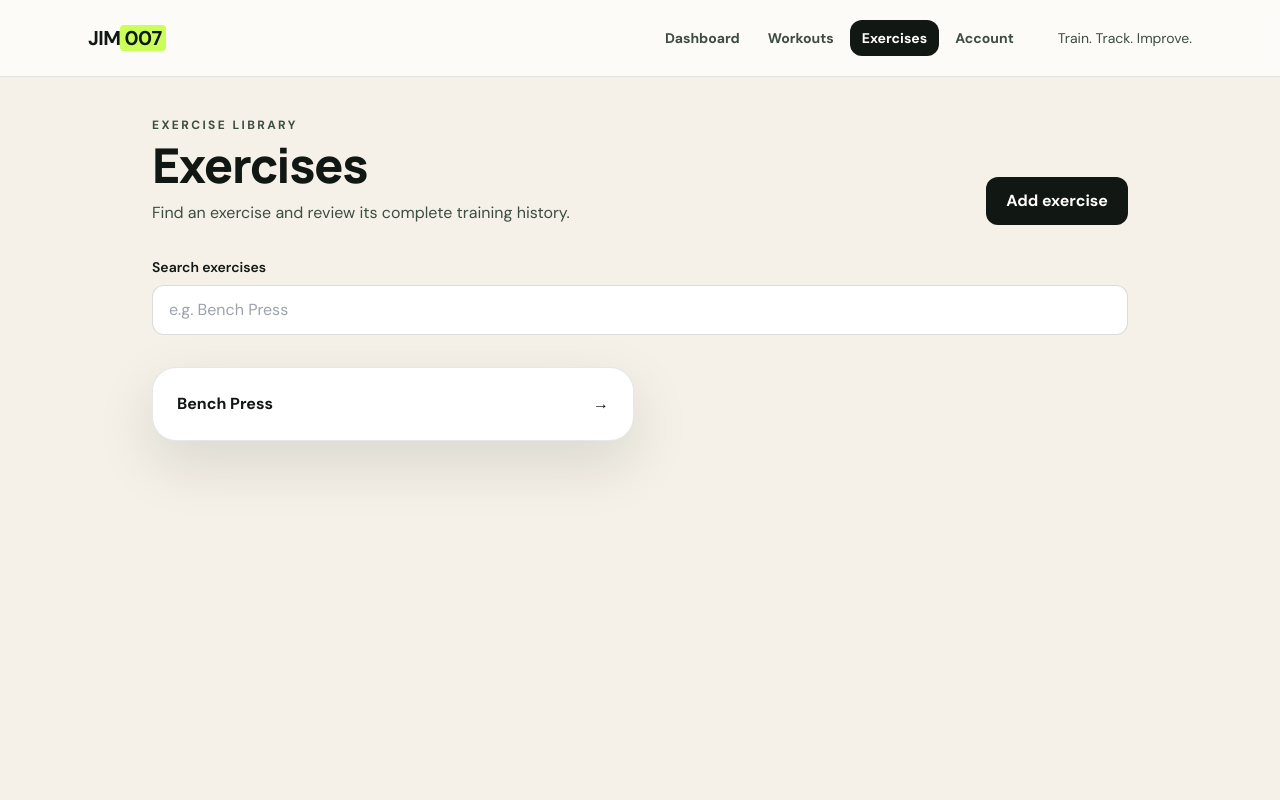
it: authentication and optional integrations › reports an existing exercise without adding a duplicate
Click the button "Add exercise". click: {"x": 1057, "y": 201}
box: [986,177,1128,225]
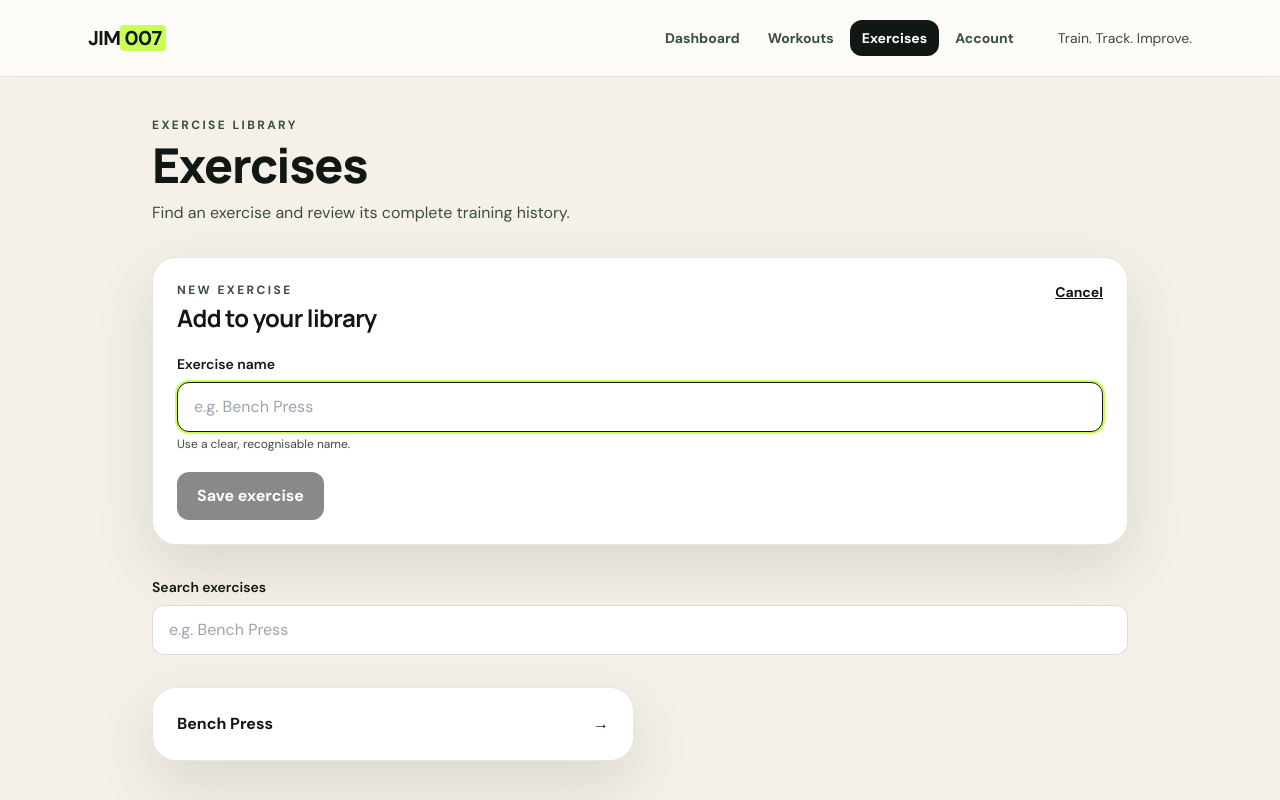
Type "bench press" into the field labelled "Exercise name". click: {"x": 640, "y": 407}
box: [177,382,1103,432]
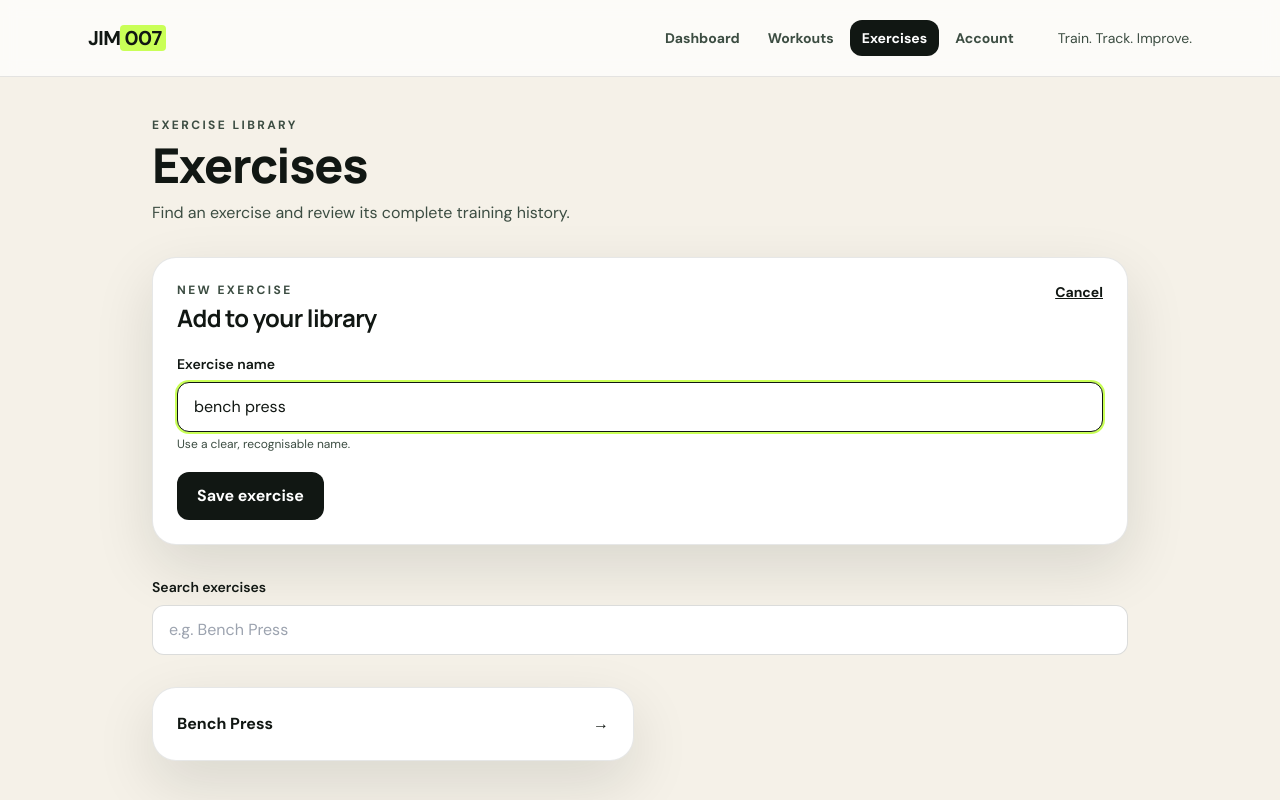
Click the button "Save exercise". click: {"x": 250, "y": 496}
box: [177,472,324,520]
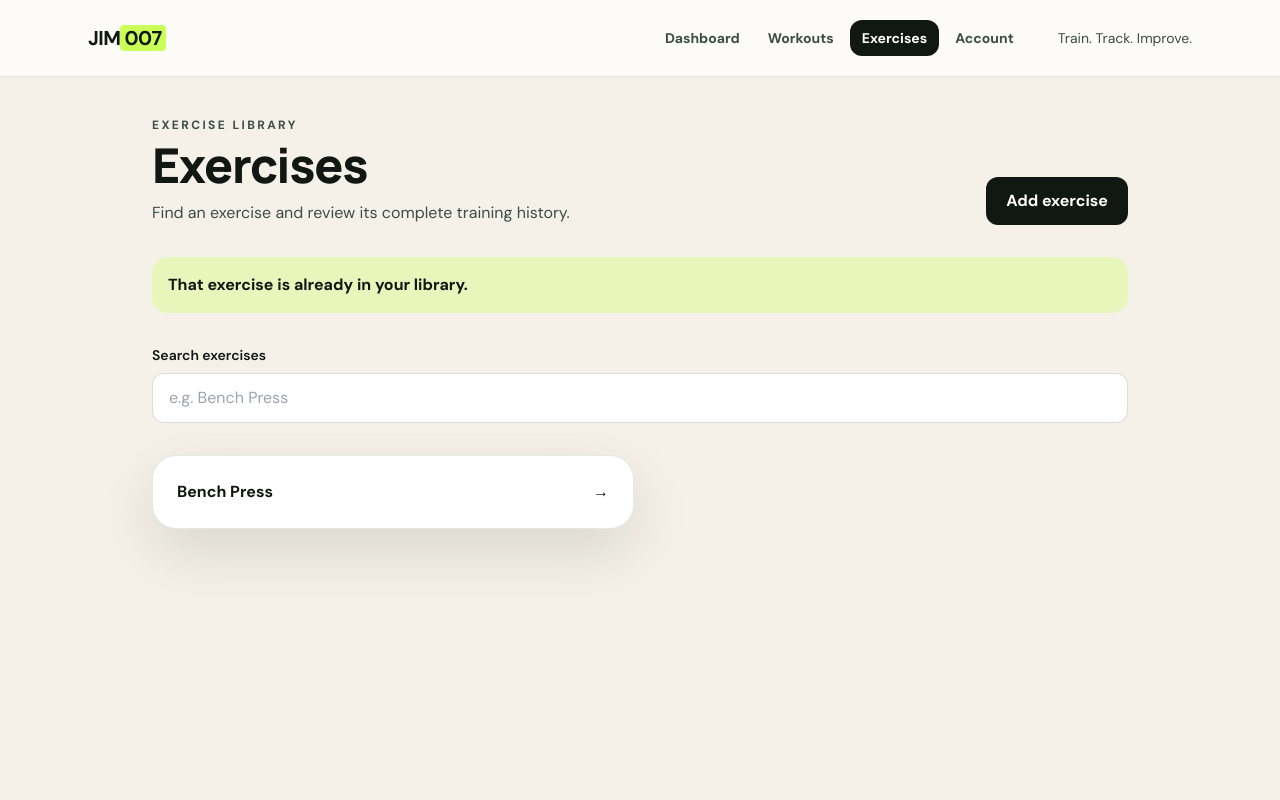
Expected: the number of links "Bench Press →" is 1, [152,455,634,529]
Now the message shows "already in your library", box [168,274,468,295]
